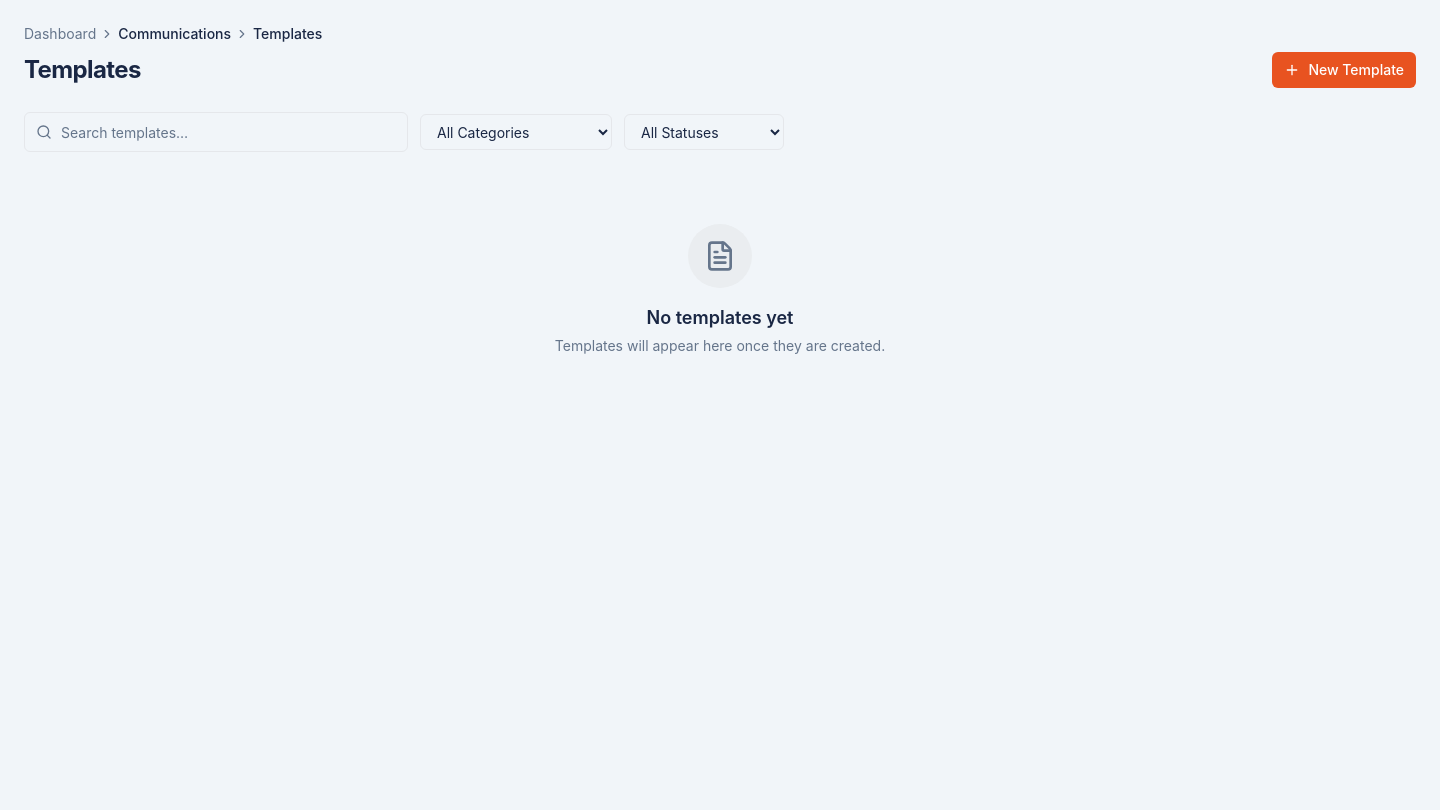
Test: TemplatesView › shows new template editor with empty fields
The width and height of the screenshot is (1440, 810).
What coordinates should you click on to do the following:
click the button "New Template"
I would click on:
 (1344, 70)
Its box is 1272,52 -> 1416,88.
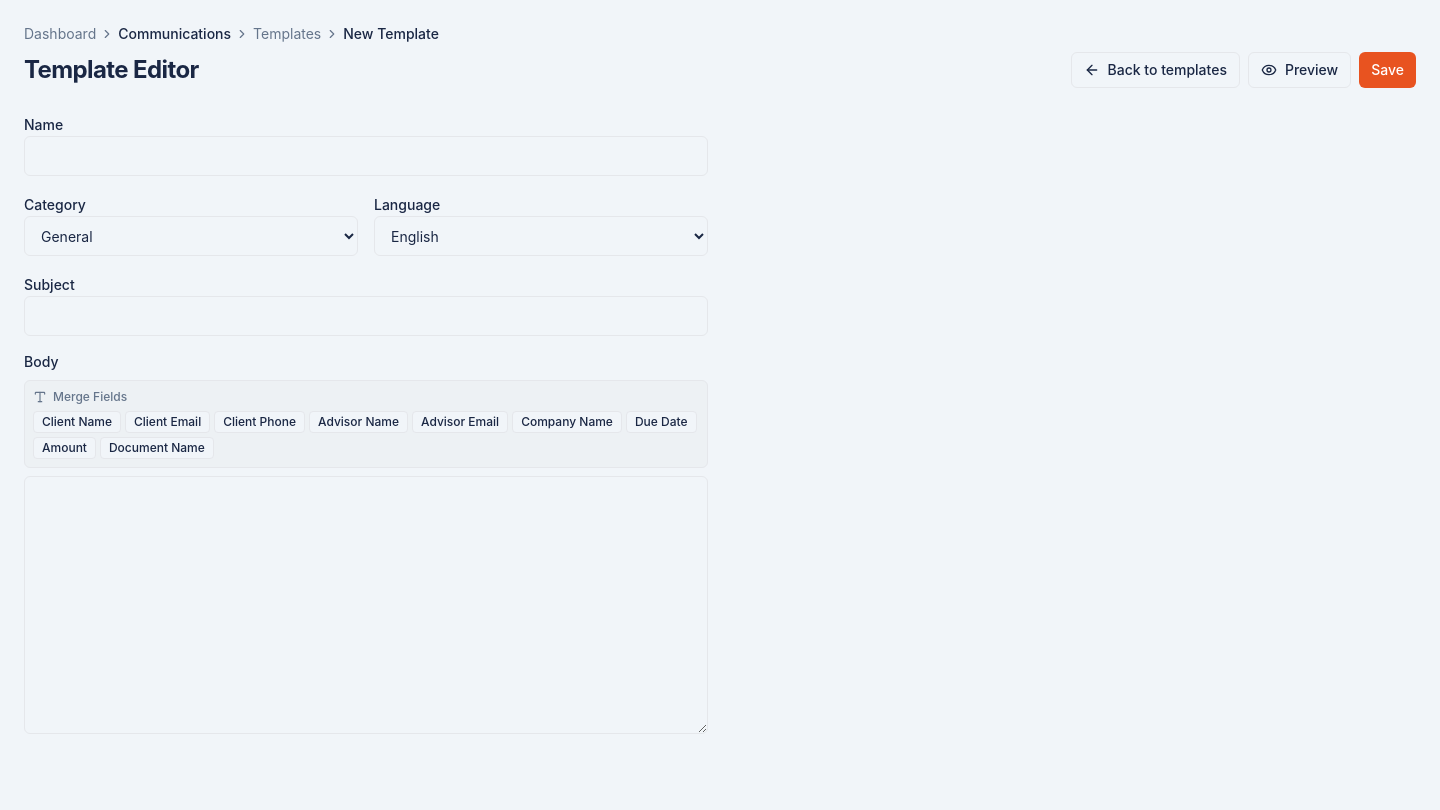
Expected: the field labelled "Name" is empty, 24,136 -> 708,176
Now the heading reads "Template Editor", box 24,55 -> 199,84
